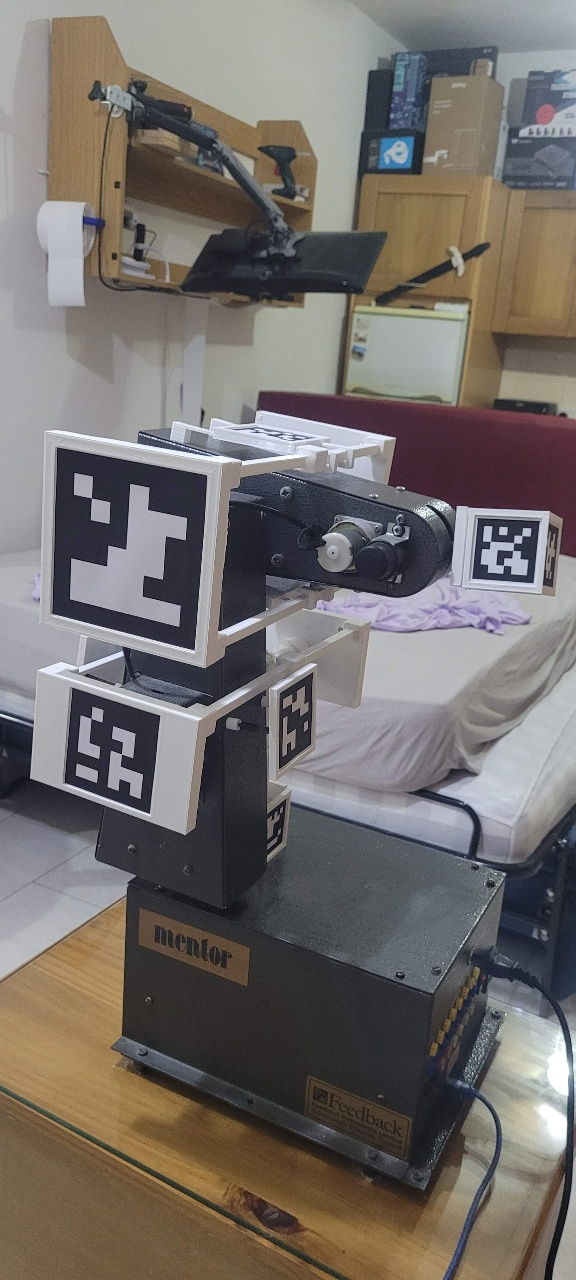Robot: (26, 409, 565, 913)
